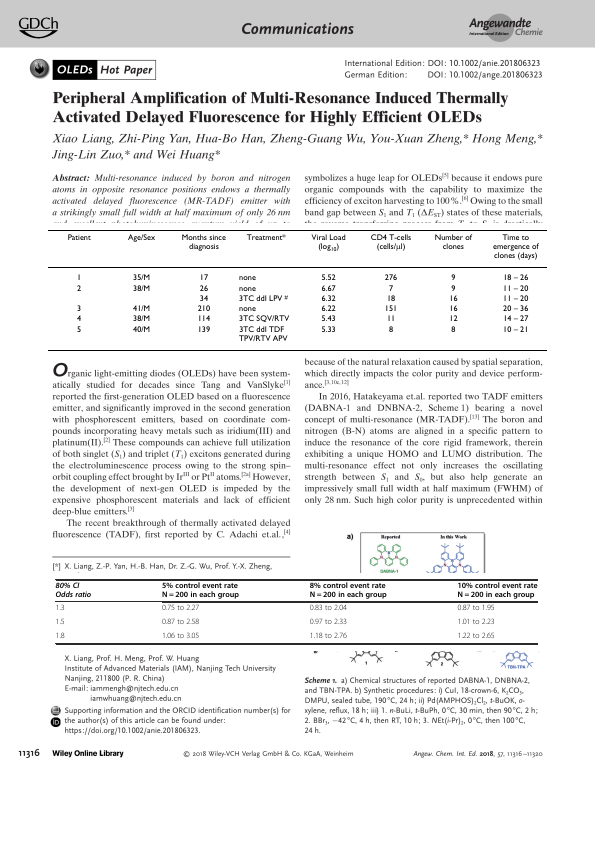borderless: (47, 228, 547, 350), (54, 578, 537, 643)
cell: (457, 582, 538, 600), (161, 582, 240, 600), (309, 582, 388, 600), (491, 232, 539, 261), (238, 324, 288, 343), (369, 231, 412, 253), (180, 232, 226, 251), (310, 232, 346, 253), (433, 232, 472, 251), (55, 582, 92, 599), (238, 314, 290, 324), (238, 293, 288, 303), (245, 232, 286, 242), (126, 232, 156, 242), (161, 605, 200, 612), (309, 605, 348, 612), (457, 605, 496, 612), (161, 619, 200, 626), (309, 619, 348, 626), (457, 619, 496, 626), (161, 633, 200, 640), (309, 633, 348, 640), (457, 633, 496, 640), (502, 273, 529, 283), (502, 283, 529, 293), (502, 304, 529, 314), (502, 314, 529, 324), (502, 324, 529, 334), (66, 232, 91, 242), (502, 294, 529, 303), (132, 273, 151, 283), (132, 283, 151, 293), (132, 304, 151, 314), (132, 314, 151, 324), (132, 324, 151, 334), (238, 273, 256, 283), (238, 283, 256, 293), (238, 304, 256, 314), (320, 273, 336, 283), (320, 283, 336, 293), (320, 304, 336, 314), (320, 314, 336, 324), (320, 324, 336, 334), (383, 273, 398, 283), (196, 304, 211, 314), (383, 304, 398, 314), (196, 314, 211, 324), (196, 324, 211, 334), (320, 294, 336, 303), (198, 273, 209, 283), (198, 283, 209, 293), (385, 314, 396, 324), (448, 304, 458, 314), (448, 314, 458, 324), (198, 294, 209, 303), (385, 294, 396, 303), (448, 294, 458, 303), (387, 283, 394, 293), (387, 324, 394, 334), (55, 605, 65, 612), (55, 619, 65, 626), (55, 633, 65, 640), (76, 273, 82, 283), (450, 273, 456, 283), (76, 283, 82, 293), (450, 283, 456, 293), (76, 304, 82, 314), (76, 314, 82, 324), (76, 324, 82, 334), (450, 324, 456, 334)
